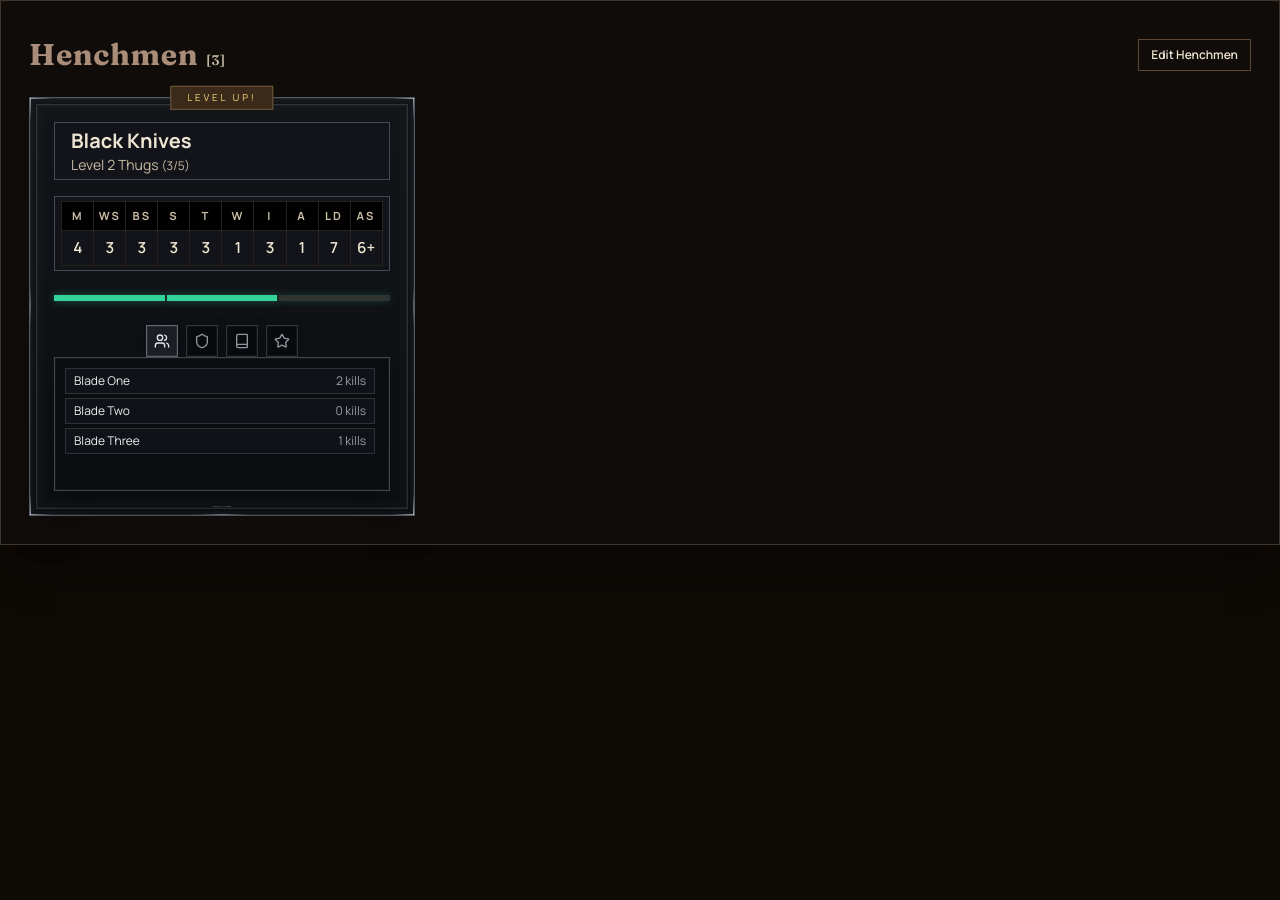
it: UnitSection: henchmen create and save › starts editing from the groups it shows, without loading them again (PERF-26)
Click the button "Edit Henchmen" at (1195, 55), box [1138, 39, 1251, 71]
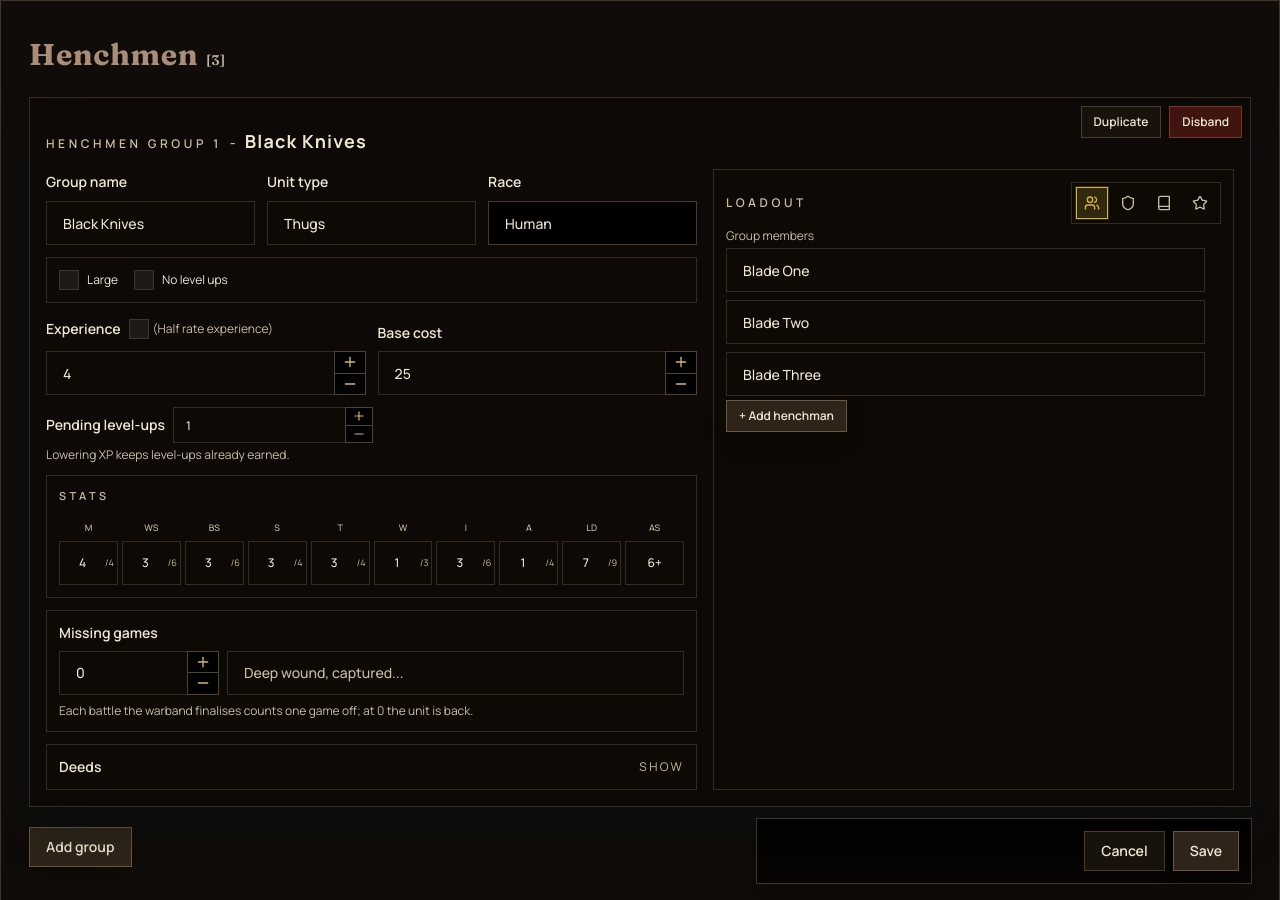
Result: the button "Add group" is shown at [29, 826, 132, 866]
Result: the field showing "Black Knives" below "Group name" is shown at [46, 201, 255, 245]
